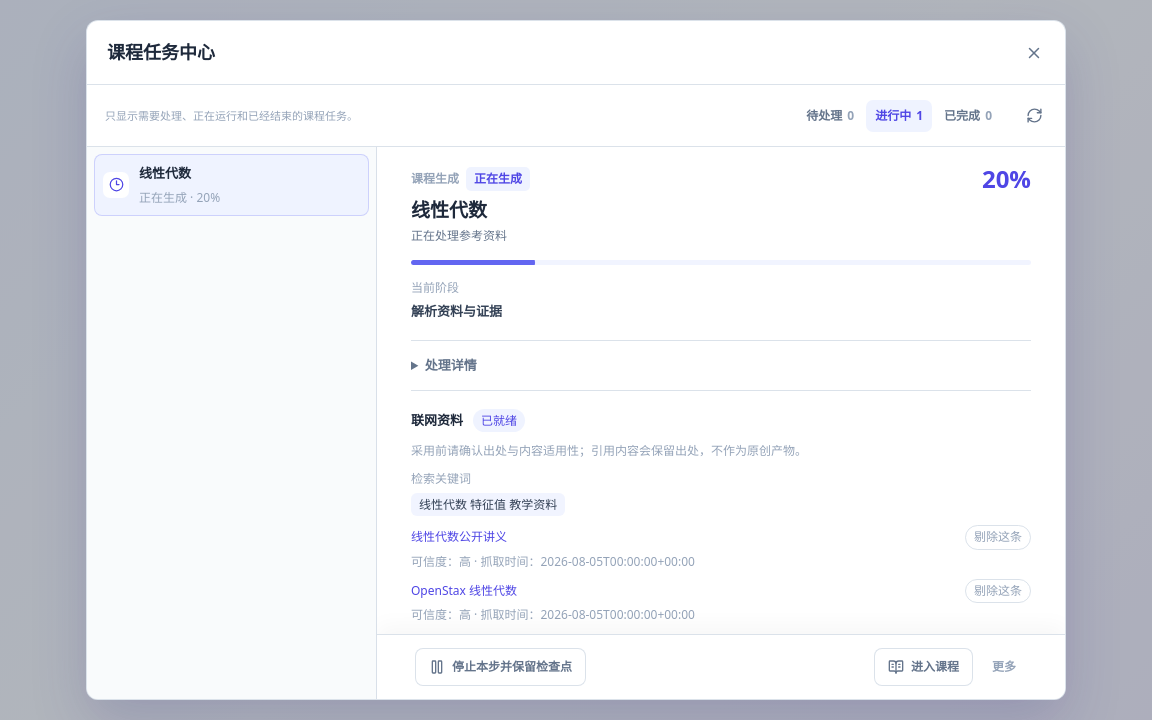
Test: CourseTaskCenter 联网资料审阅 › 剔除后按钮变为可恢复，再点一次恢复
Click the button with test id "web-source-toggle-src_mit".
click(998, 538)  # box [965, 525, 1031, 550]
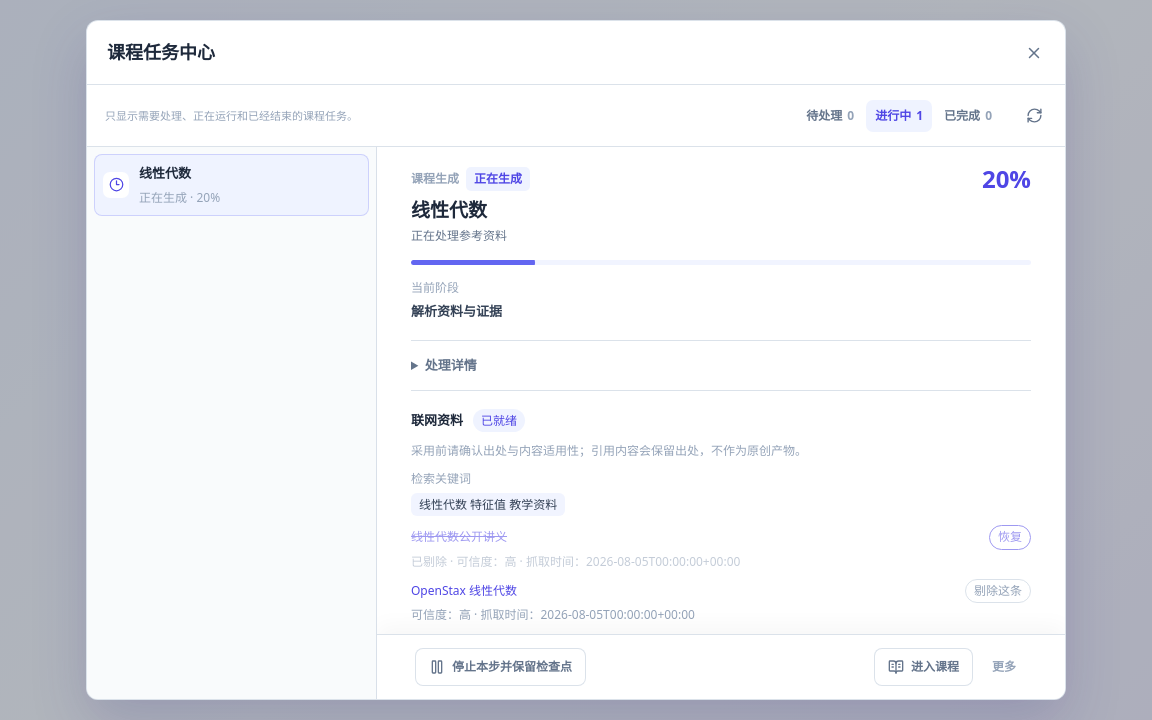
Check: the button with test id "web-source-toggle-src_mit" reads "恢复"
Click the button with test id "web-source-toggle-src_mit".
click(1010, 538)  # box [989, 525, 1031, 550]
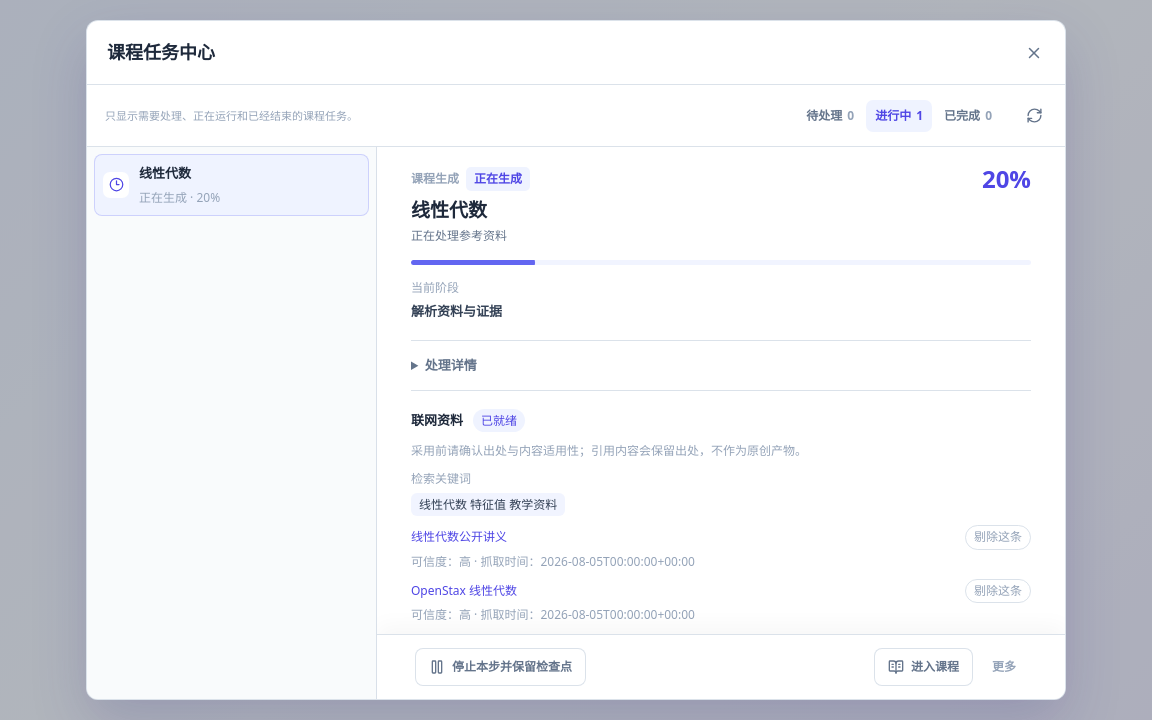
Check: the button with test id "web-source-toggle-src_mit" reads "剔除这条", box [965, 525, 1031, 550]
